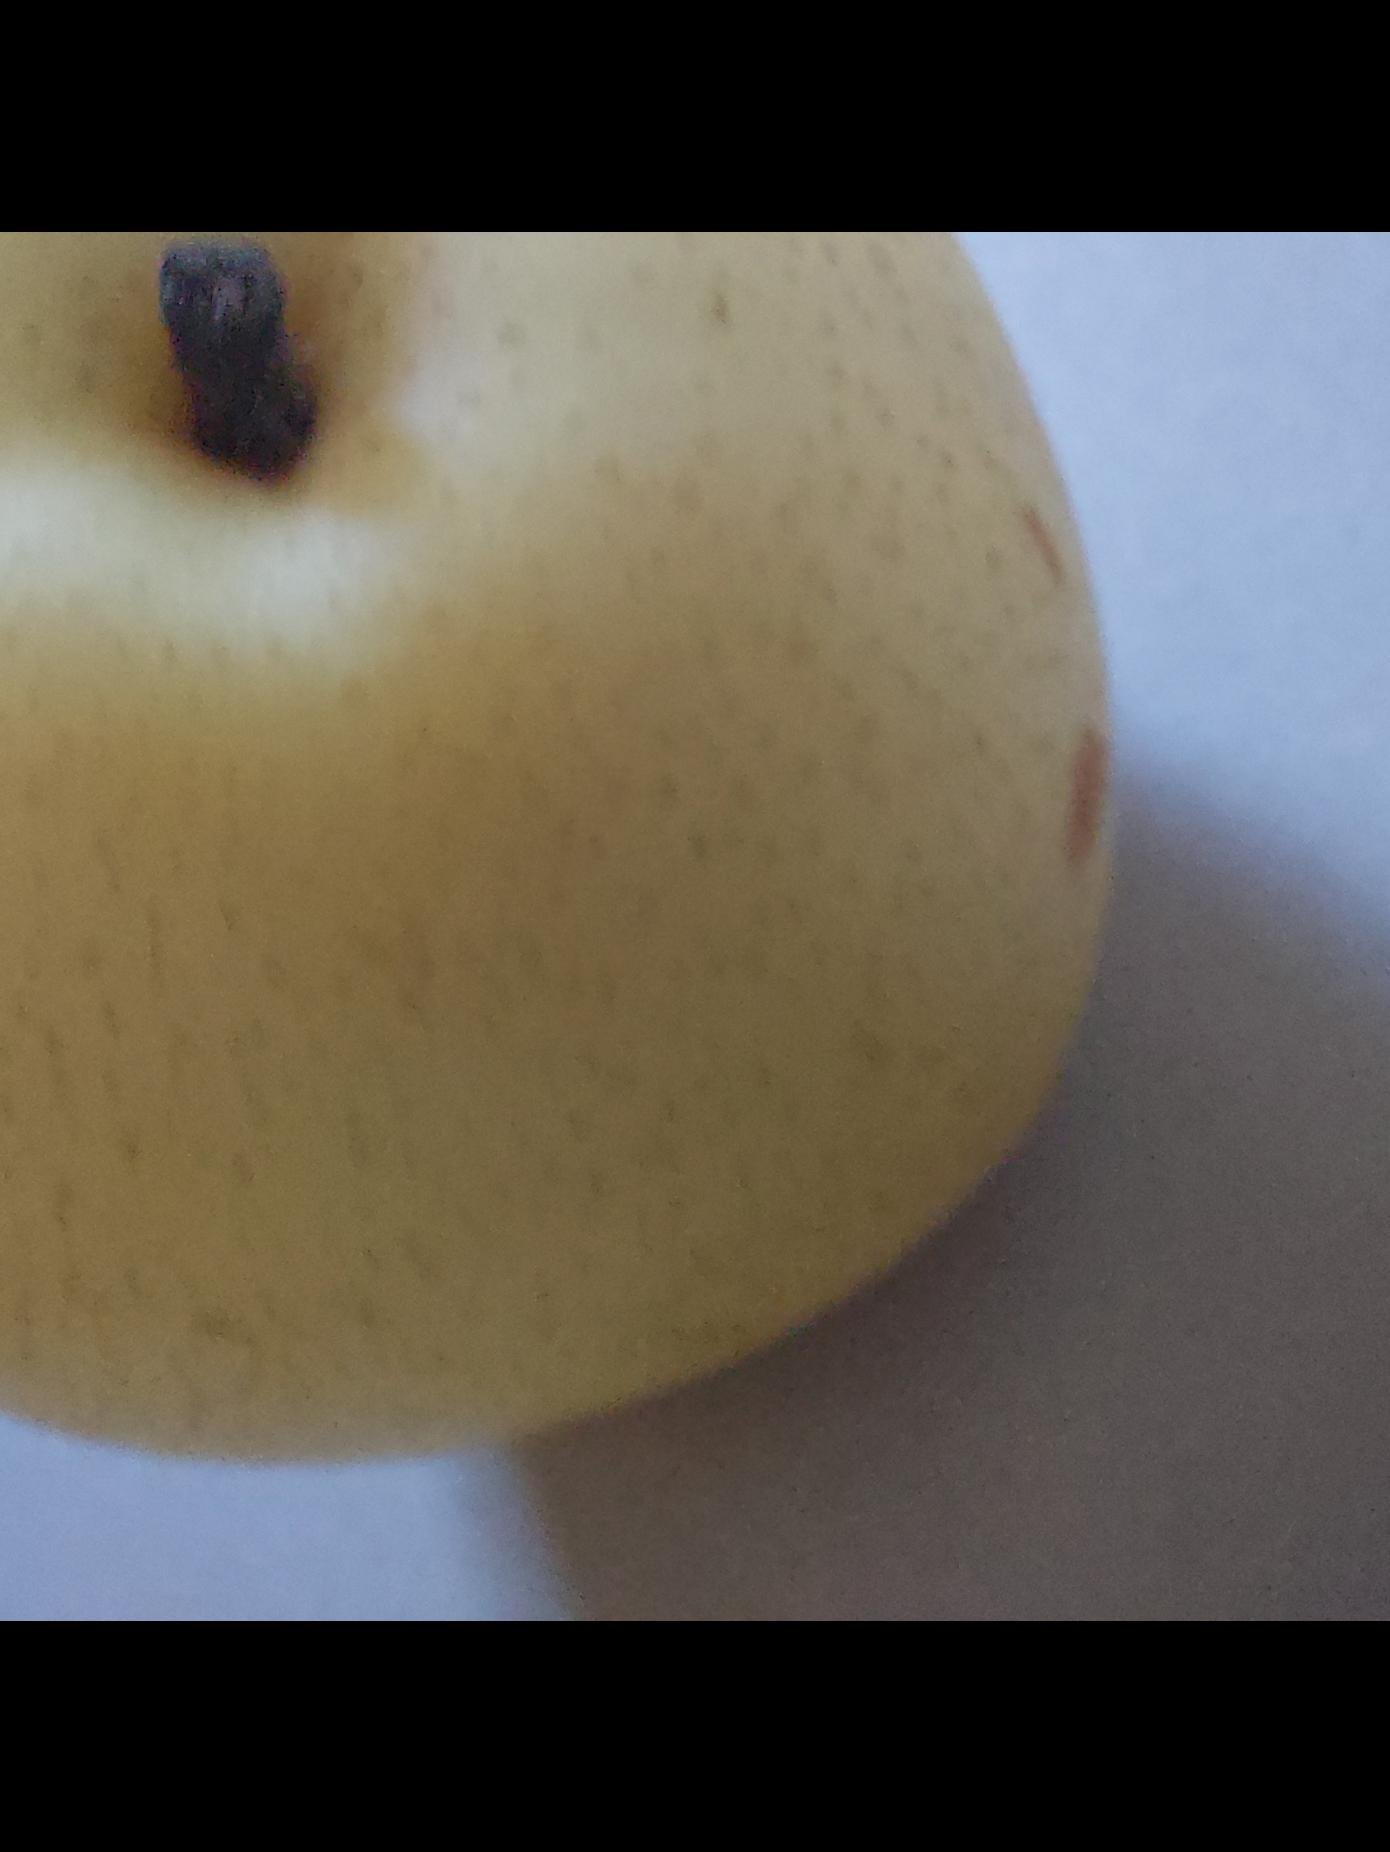Good Pear: (0, 231, 1213, 1613)
